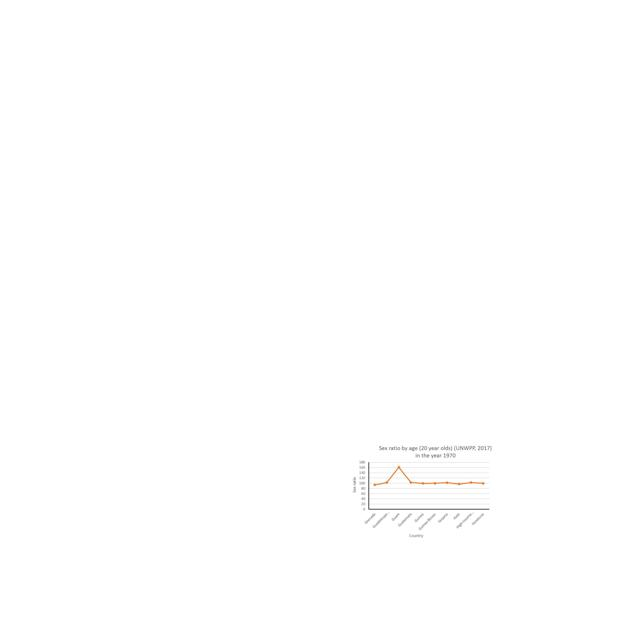Graph: (350, 445, 493, 540)
